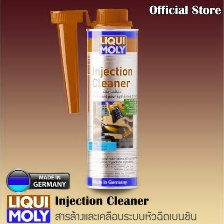aerosol_cans: (80, 4, 141, 195)
